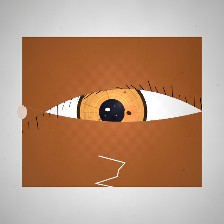foreign_body_visible: (93, 129, 126, 156)
